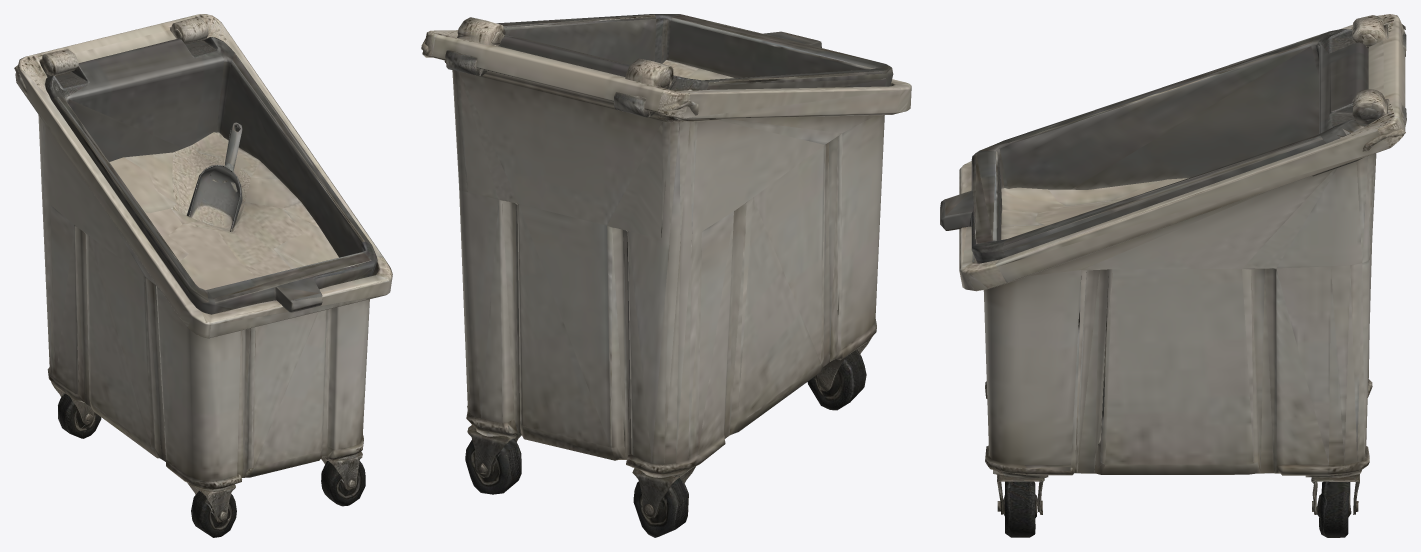
Rendered from p7-ingredient-bin-t25.glb.
3 renders of one model, left to right at view 1: azimuth 30°, elevation 25°; view 2: azimuth 150°, elevation 25°; view 3: azimuth 270°, elevation 25°, orthographic. The views are drawn at different scales.
Parts seen in each view (by area): view 1: p7-ingredient-bin-t25; view 2: p7-ingredient-bin-t25; view 3: p7-ingredient-bin-t25.
Boxes of the visible parts, x1,y1,x2,y2 form: p7-ingredient-bin-t25: (14, 14, 392, 537); p7-ingredient-bin-t25: (421, 14, 911, 537); p7-ingredient-bin-t25: (940, 14, 1406, 537).
Size of the model in its own units: 0.4 by 0.7 by 0.676.
1 material, 1 textured.
